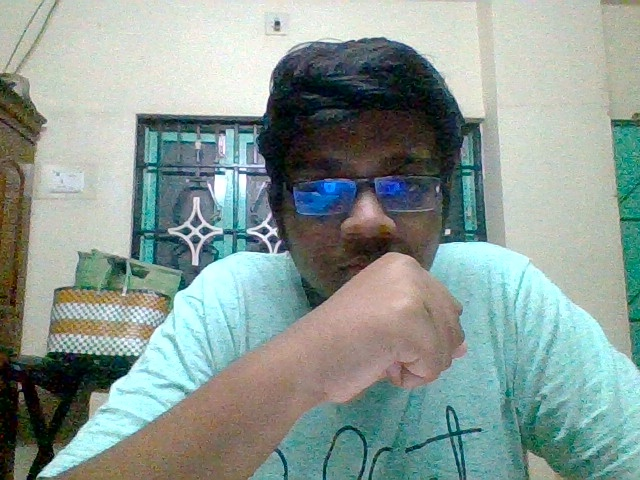fist: (295, 253, 471, 419)
